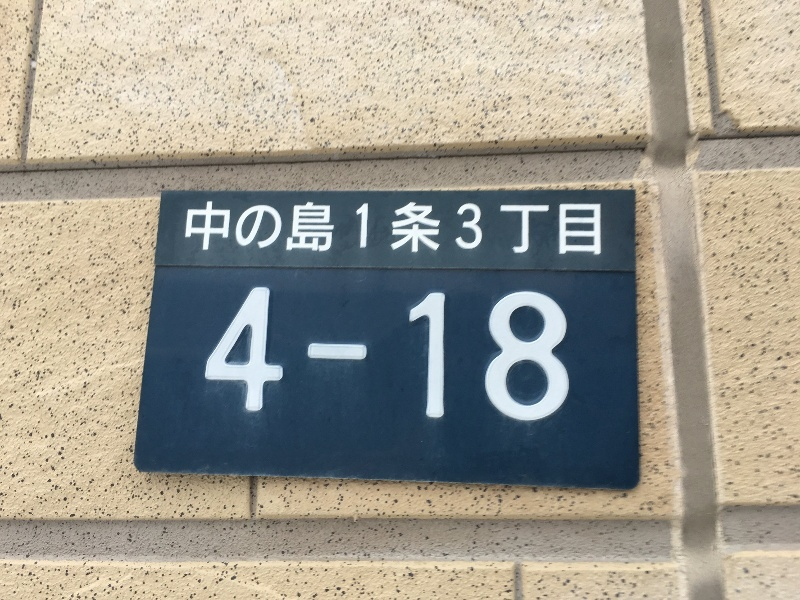text: (225, 287, 240, 424), (241, 287, 256, 424), (257, 287, 272, 424), (273, 287, 288, 424), (289, 287, 304, 424), (305, 287, 320, 424), (321, 287, 336, 424), (337, 287, 352, 424), (353, 287, 368, 424), (369, 287, 384, 424), (385, 287, 400, 424), (401, 287, 416, 424), (417, 287, 432, 424), (433, 287, 448, 424), (449, 287, 464, 424), (465, 287, 480, 424), (481, 287, 496, 424), (497, 287, 512, 424), (513, 287, 528, 424), (529, 287, 544, 424), (545, 287, 560, 424), (561, 287, 574, 424), (217, 287, 224, 424), (193, 202, 208, 254), (209, 202, 224, 254), (225, 202, 240, 254), (241, 202, 256, 254), (257, 202, 272, 254), (273, 202, 288, 254), (289, 202, 304, 254), (305, 202, 320, 254), (321, 202, 336, 254), (337, 202, 352, 254), (353, 202, 368, 254), (369, 202, 384, 254), (385, 202, 400, 254), (401, 202, 416, 254), (417, 202, 432, 254), (433, 202, 448, 254), (449, 202, 464, 254), (465, 202, 480, 254), (481, 202, 496, 254), (497, 202, 512, 254), (513, 202, 528, 254), (529, 202, 544, 254), (545, 202, 560, 254), (561, 202, 576, 254), (577, 202, 592, 254), (593, 202, 602, 254), (189, 202, 192, 254)
